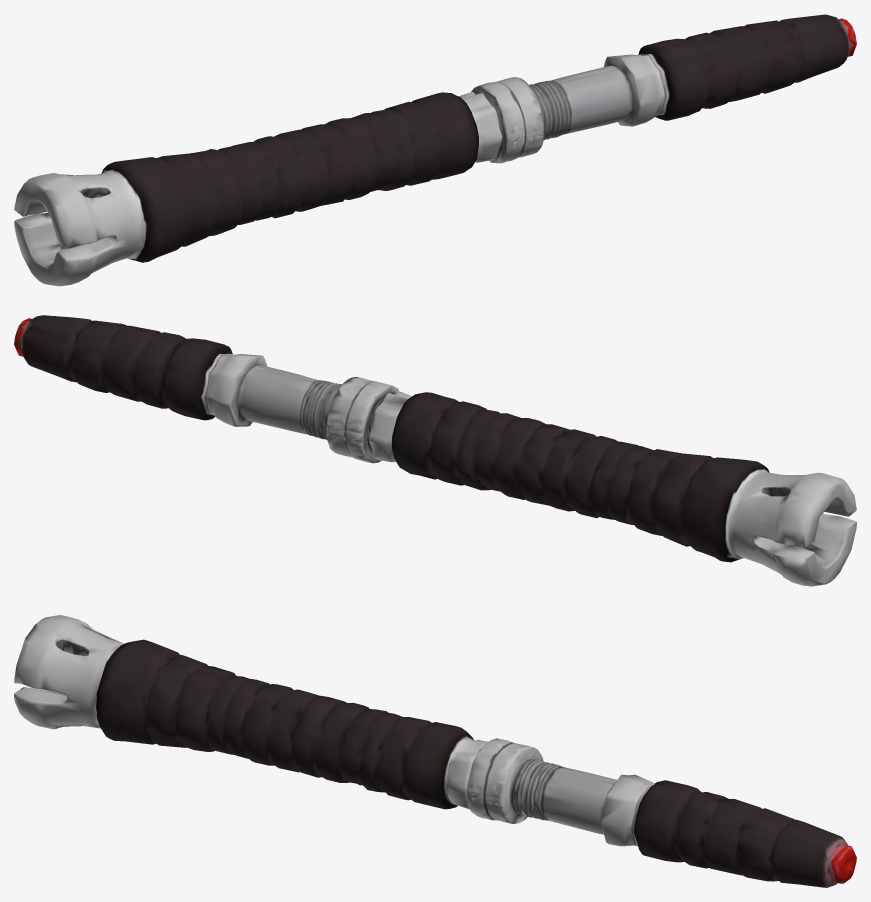
Rendered from gear-rod8.glb.
The picture shows the model from 3 angles, top to bottom: view 1: azimuth 30°, elevation 25°; view 2: azimuth 150°, elevation 25°; view 3: azimuth 330°, elevation 25°; orthographic projection.
Visible parts, largest first — view 1: tripo_node_e0481e04-b64d-47d8-8b9e-830220a4a31c; view 2: tripo_node_e0481e04-b64d-47d8-8b9e-830220a4a31c; view 3: tripo_node_e0481e04-b64d-47d8-8b9e-830220a4a31c.
Part boxes in pixels (<box>): tripo_node_e0481e04-b64d-47d8-8b9e-830220a4a31c: <box>14,14,856,286</box>; tripo_node_e0481e04-b64d-47d8-8b9e-830220a4a31c: <box>14,315,856,586</box>; tripo_node_e0481e04-b64d-47d8-8b9e-830220a4a31c: <box>14,615,856,887</box>.
Bounding box in the file's own units: 0.9999 × 0.1201 × 0.1224.
1 material, 1 textured.
